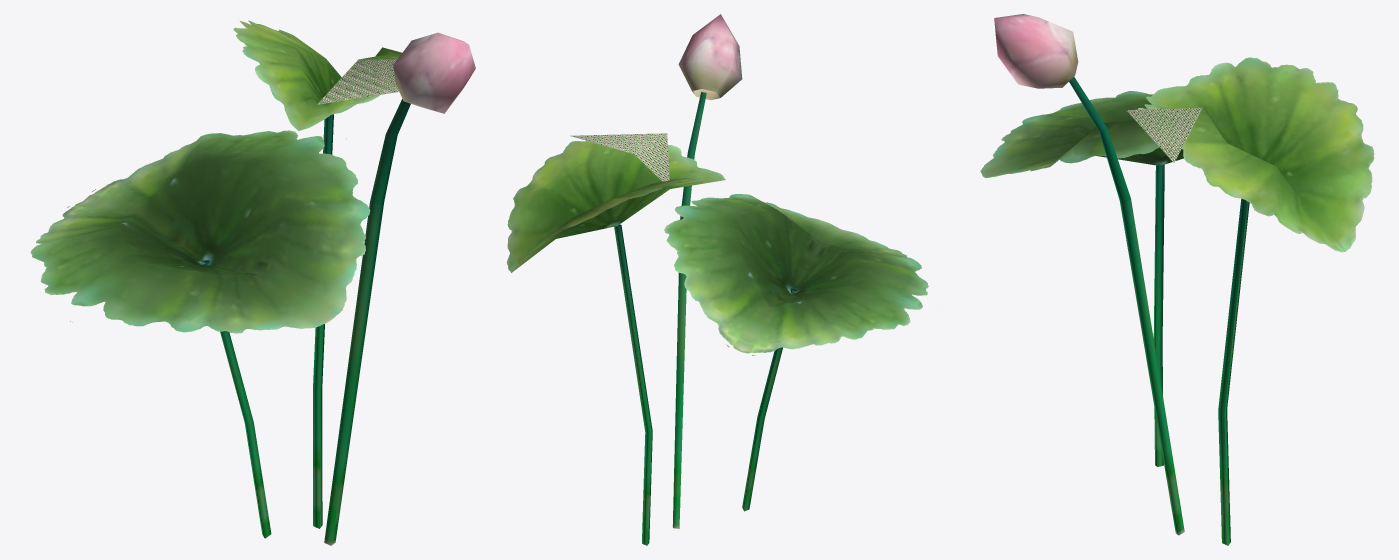
Rendered from cj_luoyang_hehua02_55_20_6216out.fbx.
3 renders of one model, left to right at view 1: azimuth 30°, elevation 25°; view 2: azimuth 150°, elevation 25°; view 3: azimuth 270°, elevation 25°, orthographic. The views are drawn at different scales.
Parts seen in each view (by area): view 1: cj_luoyang_hehua02; view 2: cj_luoyang_hehua02; view 3: cj_luoyang_hehua02.
Part boxes in pixels (x1,y1,x2,y2): cj_luoyang_hehua02: (30, 20, 475, 545); cj_luoyang_hehua02: (506, 14, 928, 545); cj_luoyang_hehua02: (980, 14, 1374, 545).
Size of the model in its own units: 3.91 by 4.5 by 3.13.
